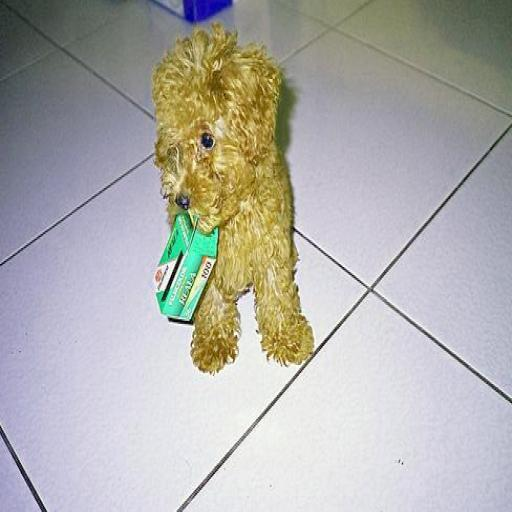dog_face: (152, 40, 278, 236)
